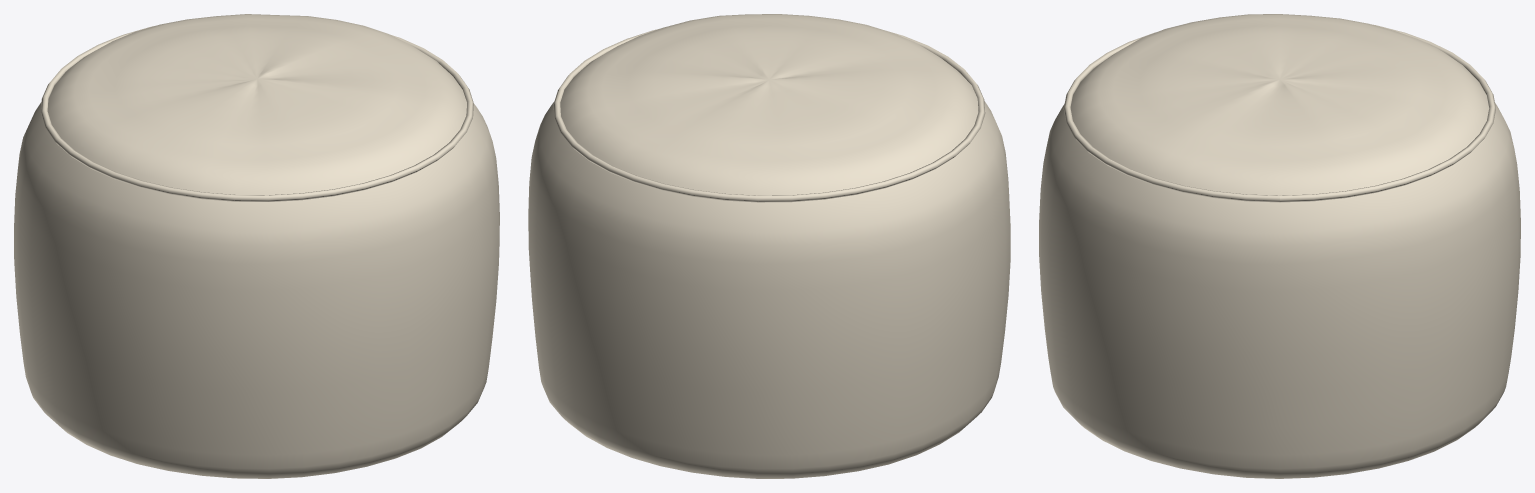
File: pouf.glb
3 views of the same model, side by side, from view 1: azimuth 30°, elevation 25°; view 2: azimuth 150°, elevation 25°; view 3: azimuth 270°, elevation 25° (orthographic).
Visible parts, largest first — view 1: pouf_soft; view 2: pouf_soft; view 3: pouf_soft.
Part boxes in pixels (box(x1,y1,x2,y2)): pouf_soft: box(14, 14, 499, 478); pouf_soft: box(528, 14, 1010, 478); pouf_soft: box(1039, 14, 1520, 478).
Size of the model in its own units: 0.5197 by 0.3719 by 0.5191.
